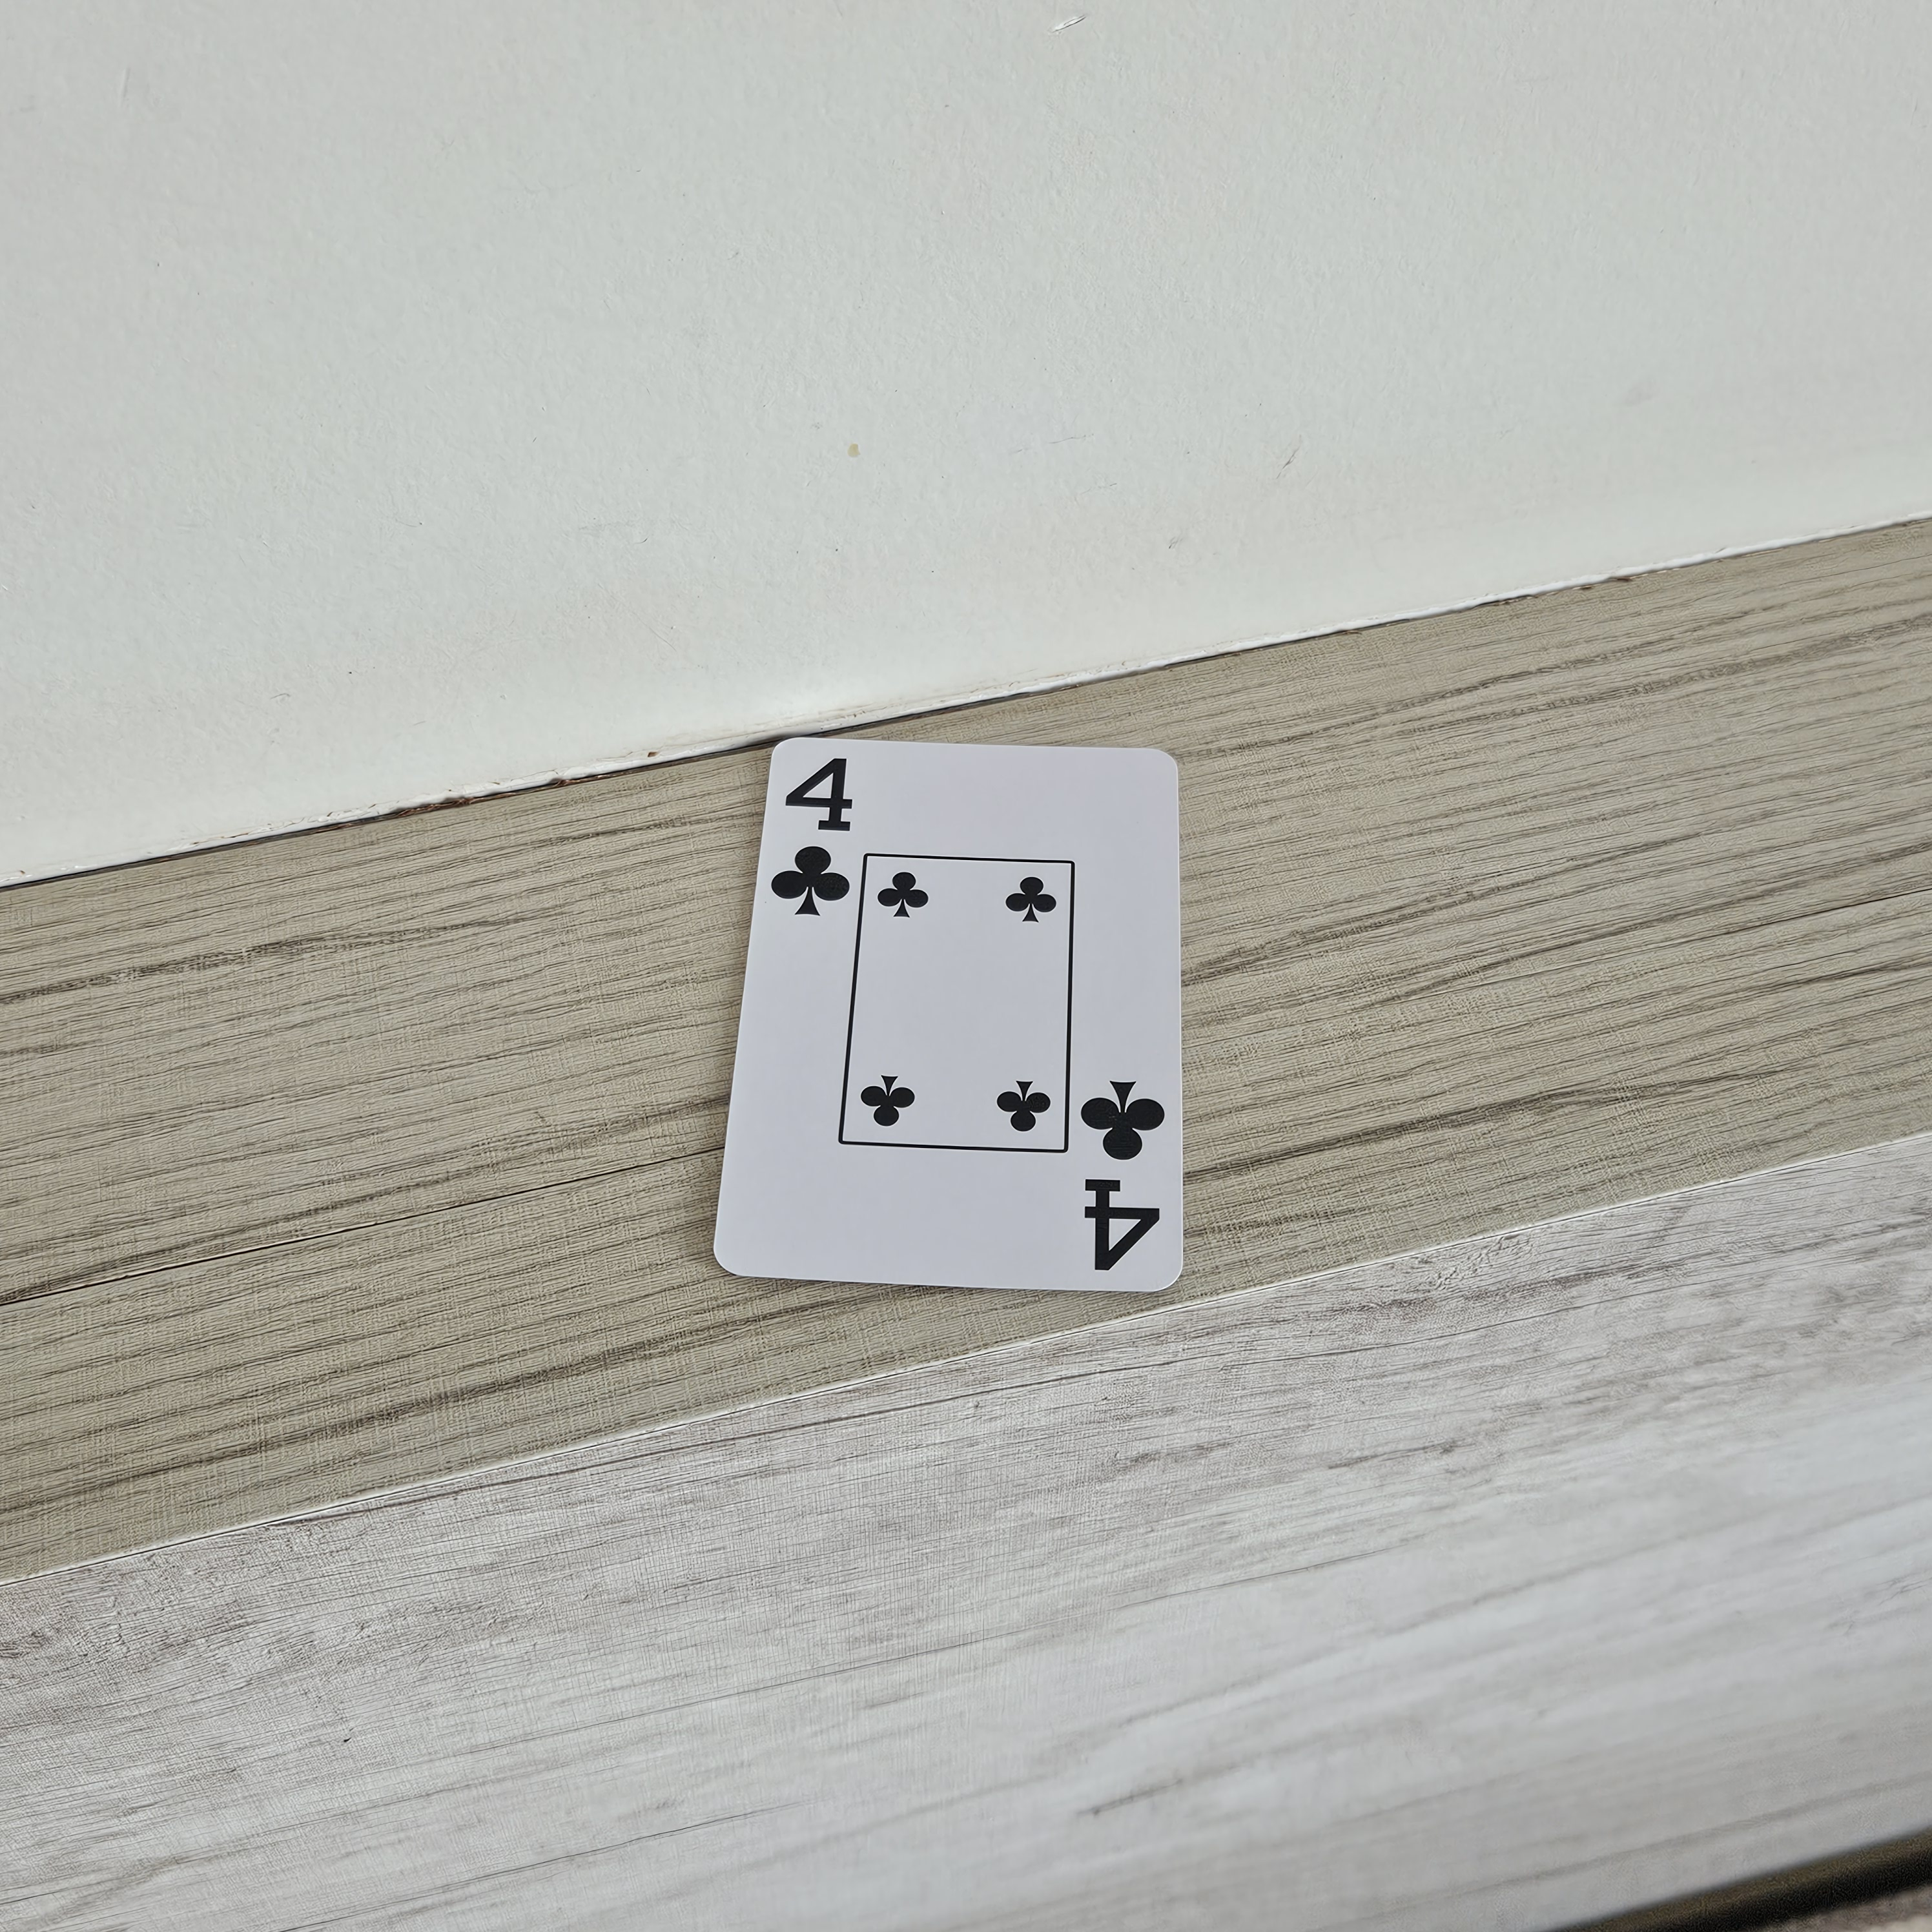4P: (1067, 1062, 1180, 1288), (757, 741, 863, 922)
